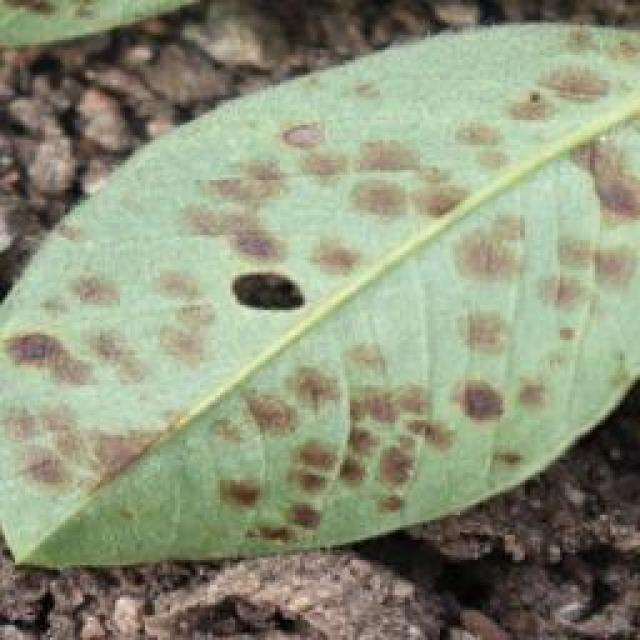Whitefly: (13, 0, 640, 520)
